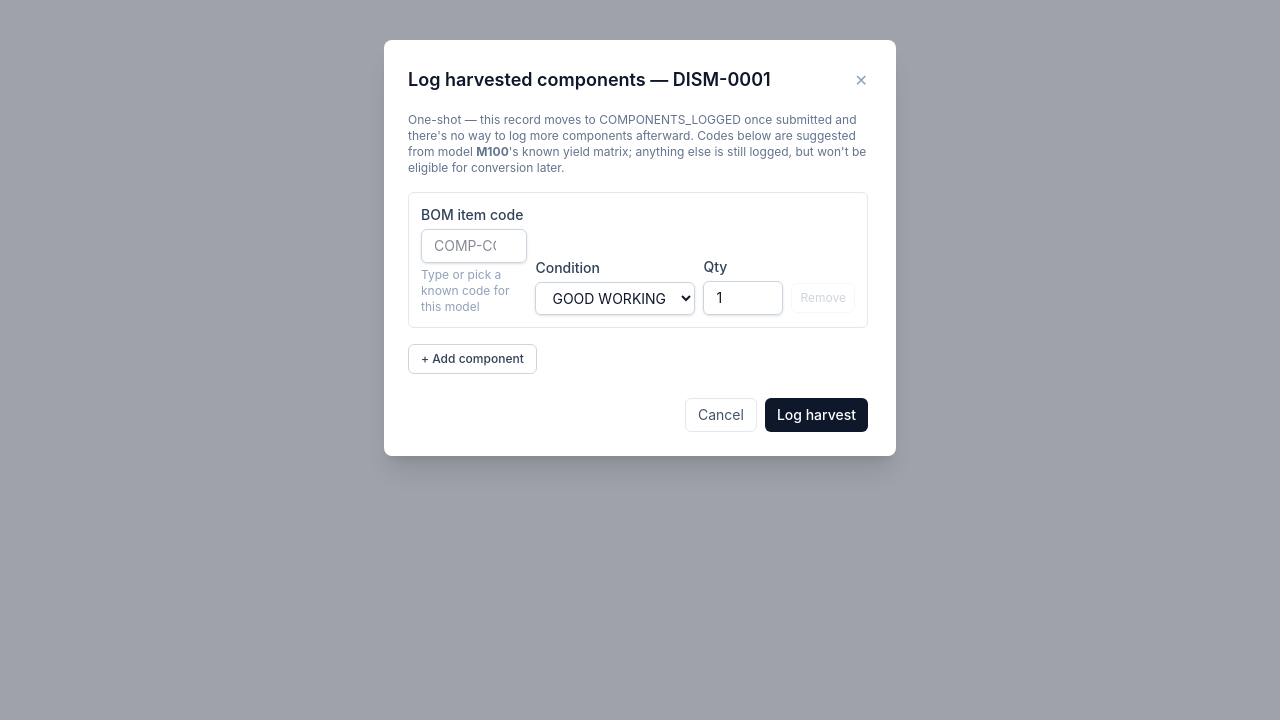
Test: HarvestModal - BOM code yield-matrix warning (the-fool finding #1) › shows a "not in yield matrix" warning under a code that does not match the fetched matrix for this model
This screenshot has width=1280, height=720.
Expected: the text "known yield matrix" is shown, [408,144,866,175]
In the field with placeholder "COMP-COMPRESSOR-01": (474, 246) [421,229,528,263], type "COMP-COMRPESSOR-01"
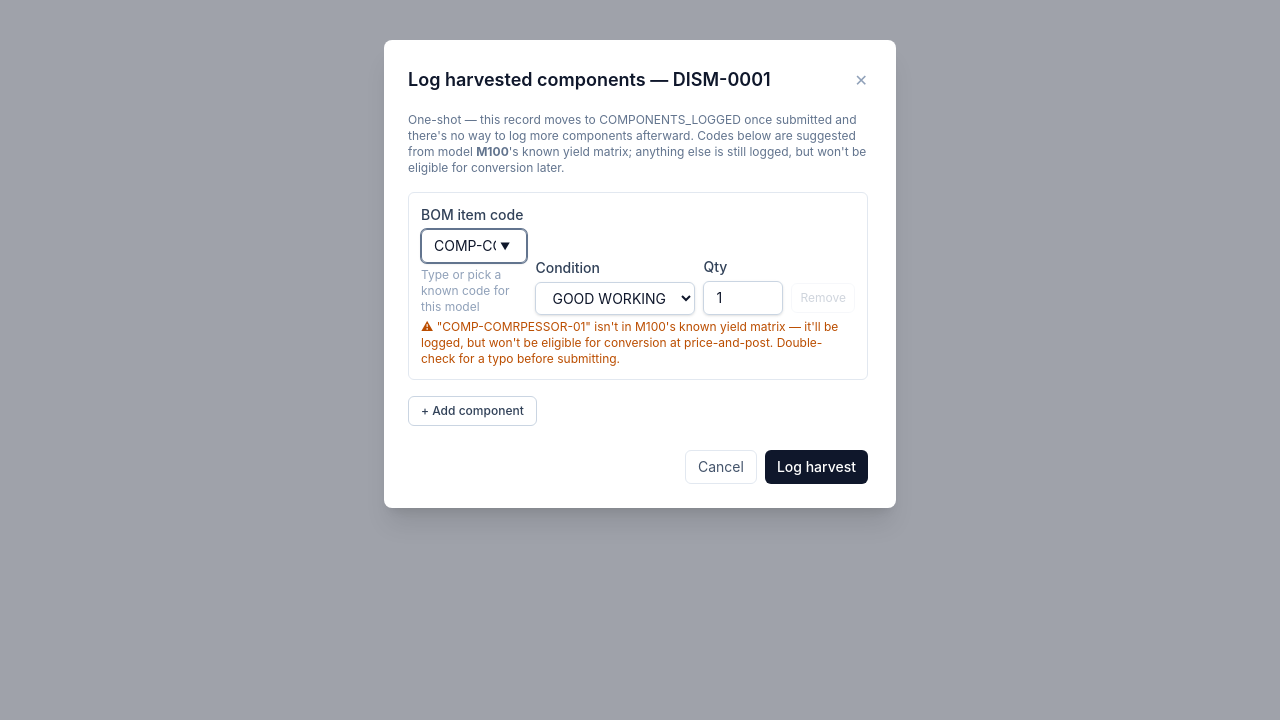
Expected: the text "isn't in M100's known yield matrix" is shown, [421,319,855,367]
